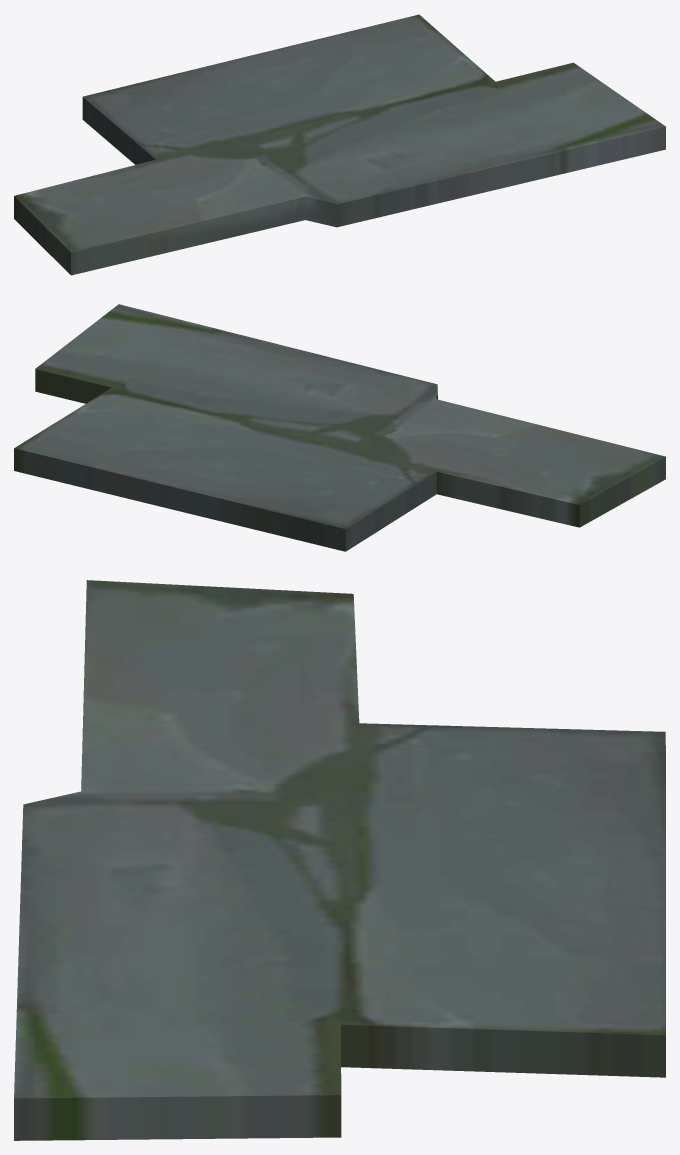
Rendered from h5_suishi_a.FBX.
The picture shows the model from 3 angles, top to bottom: view 1: azimuth 30°, elevation 25°; view 2: azimuth 150°, elevation 25°; view 3: azimuth 270°, elevation 25°; orthographic projection. The views are drawn at different scales.
Parts seen in each view (by area): view 1: h5_suishi_a; view 2: h5_suishi_a; view 3: h5_suishi_a.
Part boxes in pixels (x1,y1,x2,y2): h5_suishi_a: (14, 14, 665, 275); h5_suishi_a: (14, 304, 665, 551); h5_suishi_a: (14, 580, 665, 1140).
Size of the model in its own units: 3.61 by 0.138 by 1.92.
